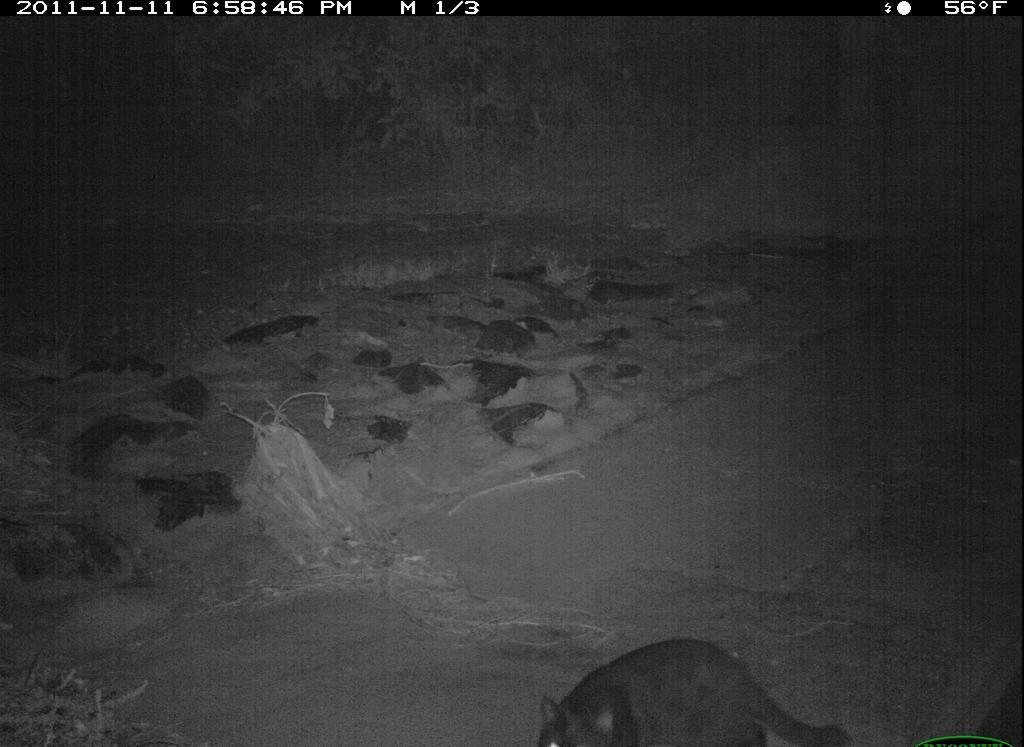cat: (524, 630, 865, 747)
